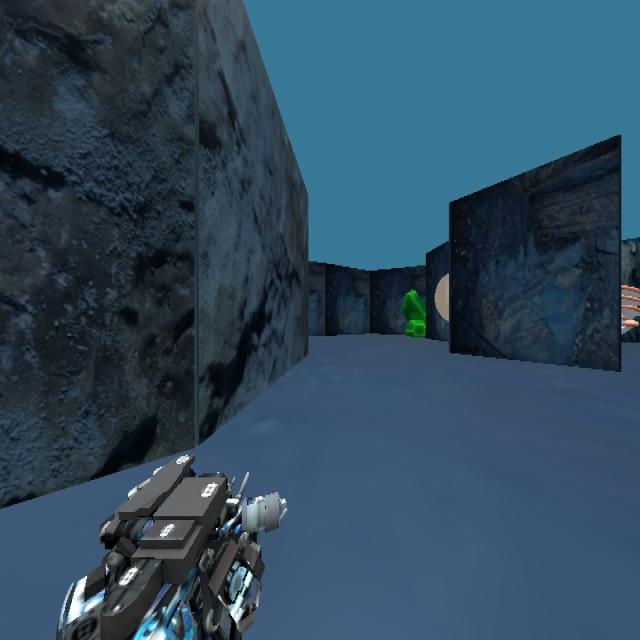Circle: (425, 240, 449, 340)
Diamon: (401, 287, 426, 337)
Mushroom: (582, 269, 640, 348)
